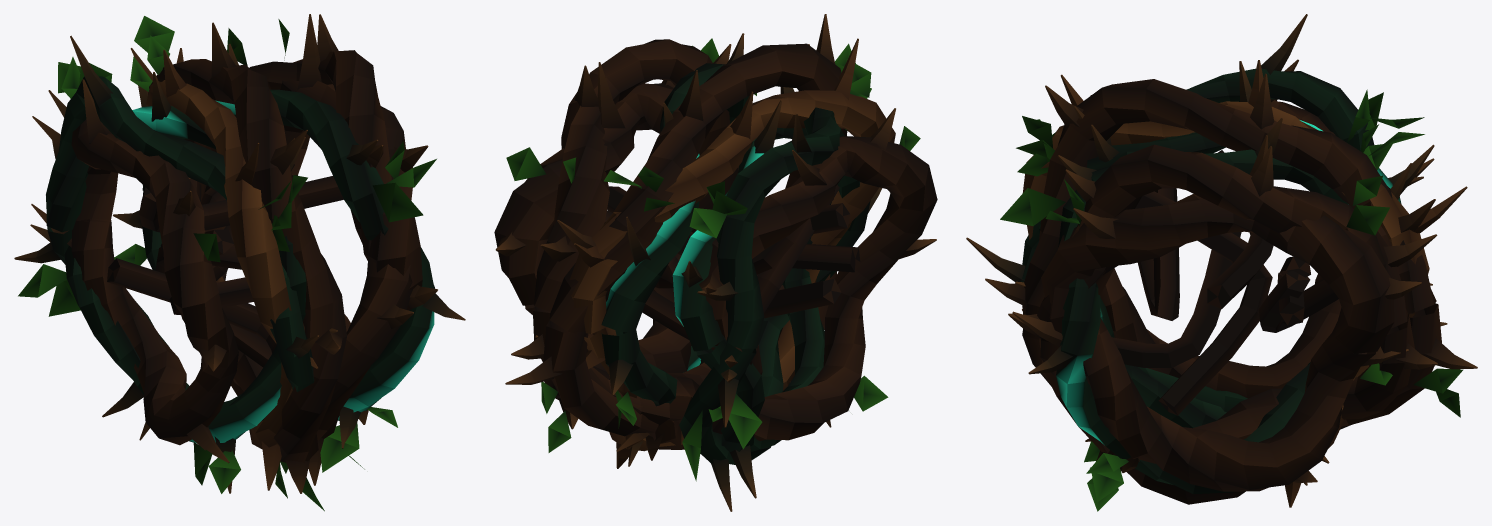
Rendered from SM_VineWheel_B.fbx.
3 renders of one model, left to right at view 1: azimuth 30°, elevation 25°; view 2: azimuth 150°, elevation 25°; view 3: azimuth 270°, elevation 25°, orthographic.
Parts seen in each view (by area): view 1: SM_VineWheel_B; view 2: SM_VineWheel_B; view 3: SM_VineWheel_B.
Boxes of the visible parts, x1,y1,x2,y2 form: SM_VineWheel_B: (14, 14, 465, 511); SM_VineWheel_B: (494, 14, 937, 511); SM_VineWheel_B: (966, 14, 1477, 511).
Size of the model in its own units: 1.33 by 1.93 by 2.1.
